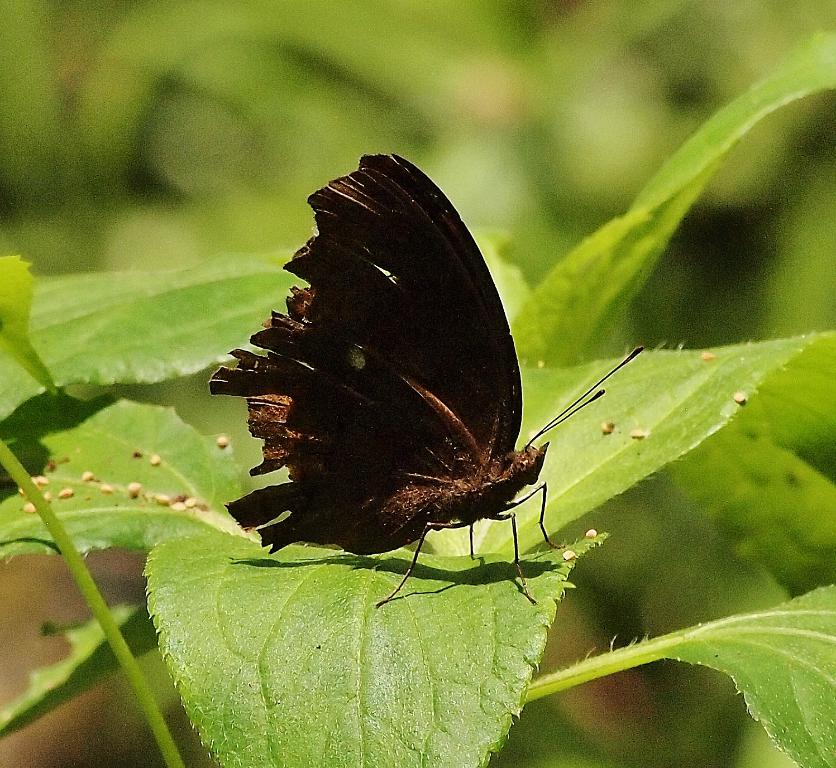Butterfly: (201, 112, 579, 615)
